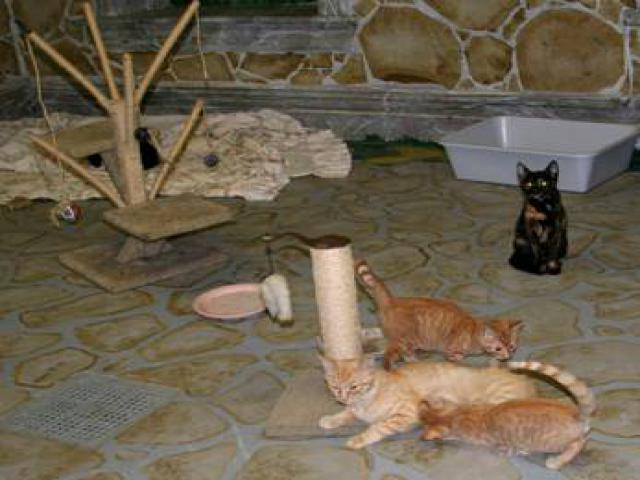cat: (320, 353, 604, 470), (357, 266, 517, 357), (501, 158, 567, 276)
